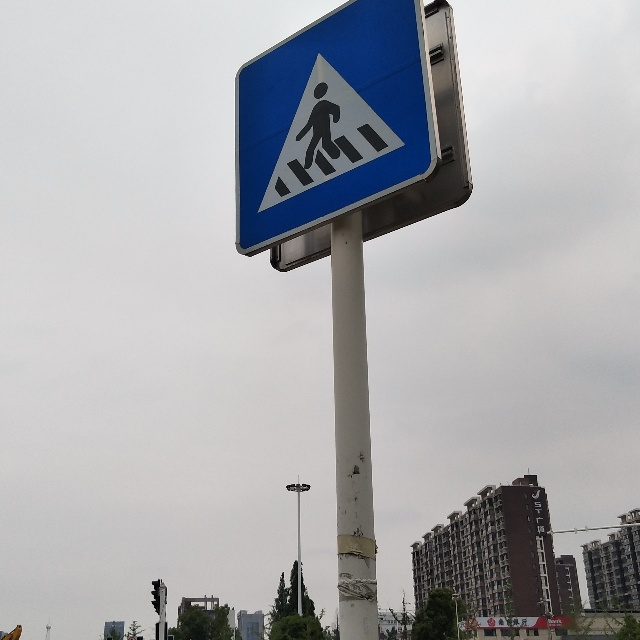crosswalk: (238, 65, 420, 222)
